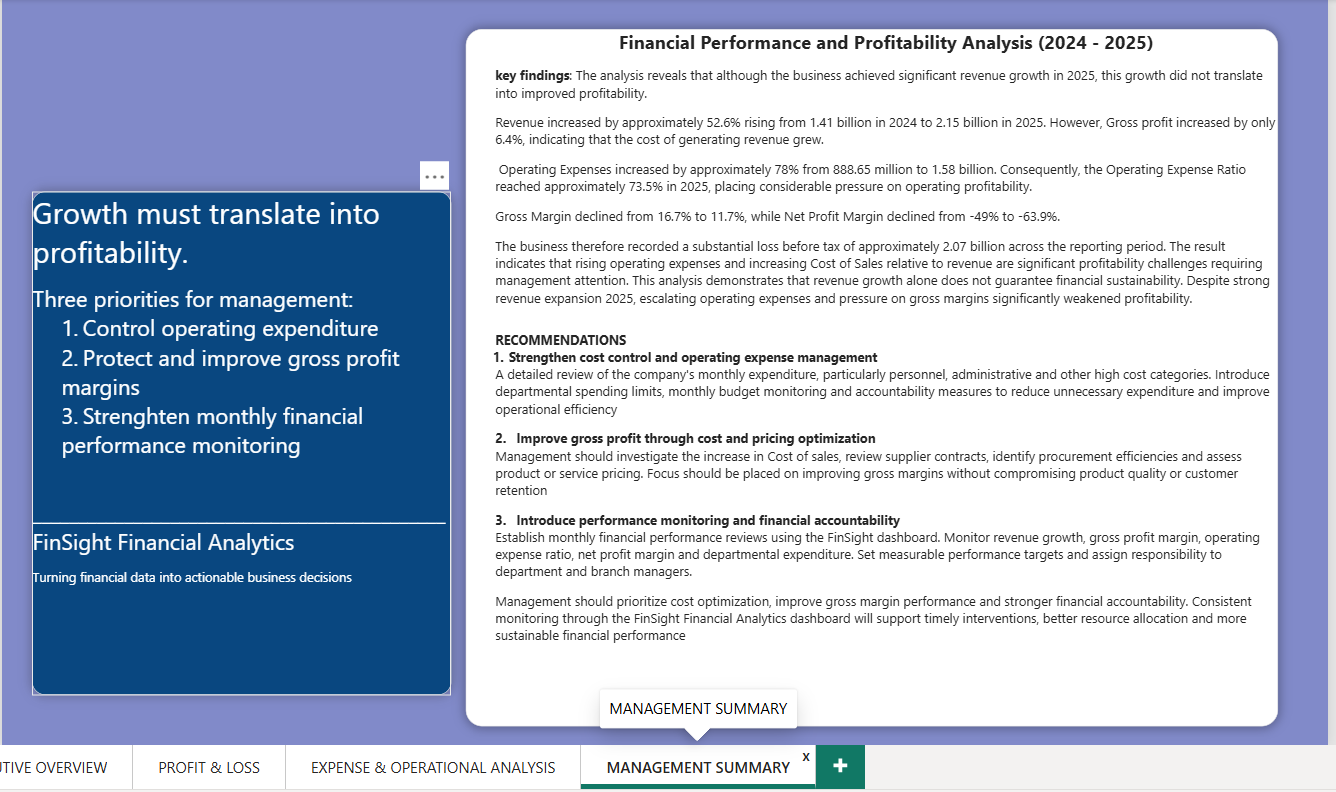

This screenshot's page, from the dashboard's own definition file:
{"tool":"powerbi","page":{"name":"MANAGEMENT SUMMARY","canvas":[1920,1080],"ordinal":3},"visuals":[{"type":"textbox","box":[671.4,42.9,1176.2,1009.5],"z":0},{"type":"textbox","box":[42.9,278.6,607.1,728.6],"z":1000}]}

Visuals, with their boxes on the page's 1920x1080 design canvas (x1, y1, x2, y2). These are canvas units, not pixel positions in the 1336x792 screenshot, which may show the page scaled, cropped or inside an application window:
textbox: {"x1": 671, "y1": 43, "x2": 1848, "y2": 1052}
textbox: {"x1": 43, "y1": 279, "x2": 650, "y2": 1007}
